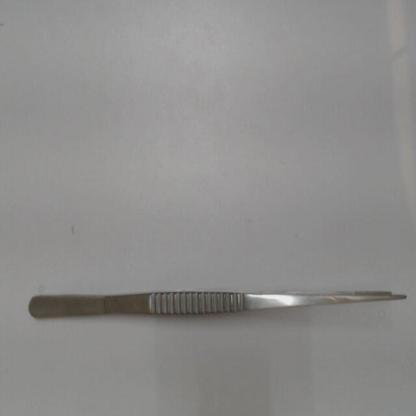DeBakey Dissector: (15, 282, 410, 326)
